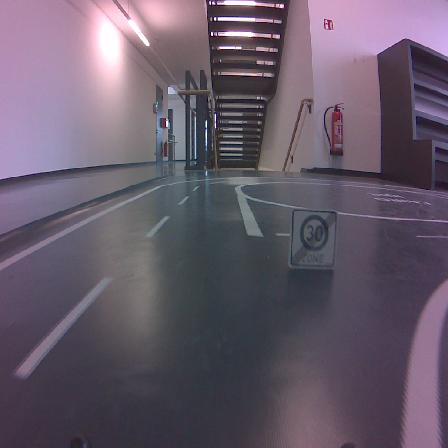30_ZONE_END: (289, 208, 338, 268)
